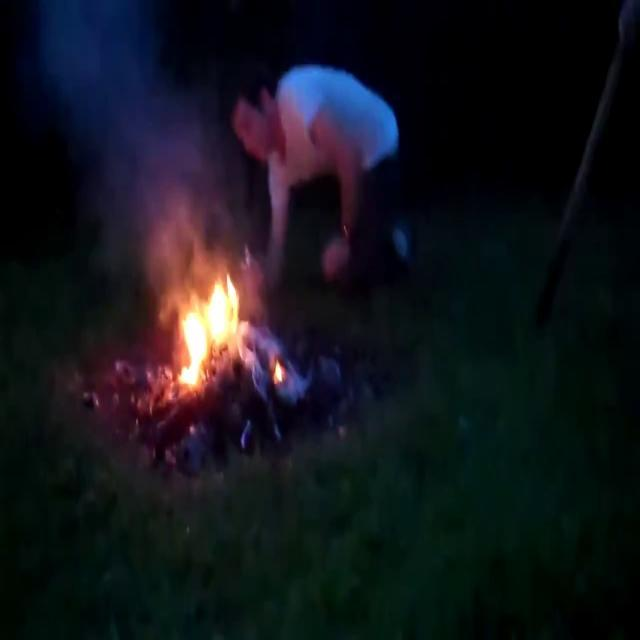Fire: (171, 264, 247, 394)
Smoke: (1, 1, 232, 307)
